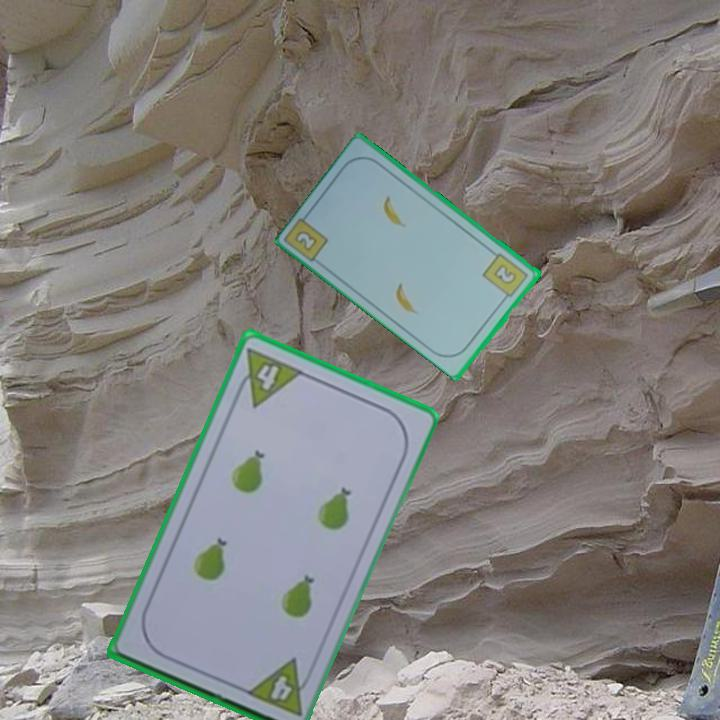2b: (480, 249, 532, 304), (291, 227, 321, 254)
4p: (229, 344, 306, 410), (241, 655, 317, 718)
